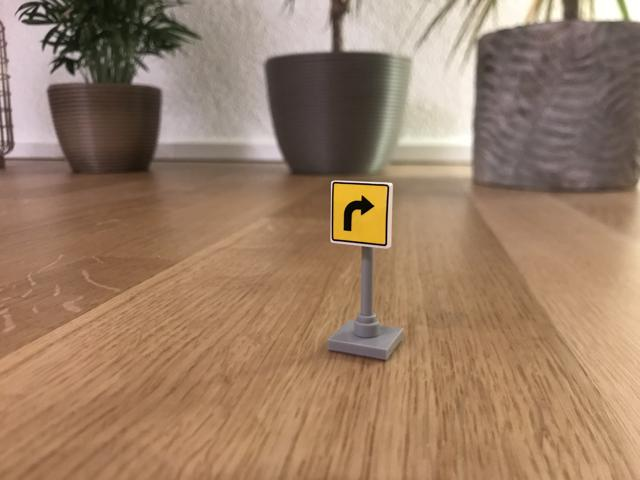fahrtrichtung rechts: (329, 176, 395, 249)
